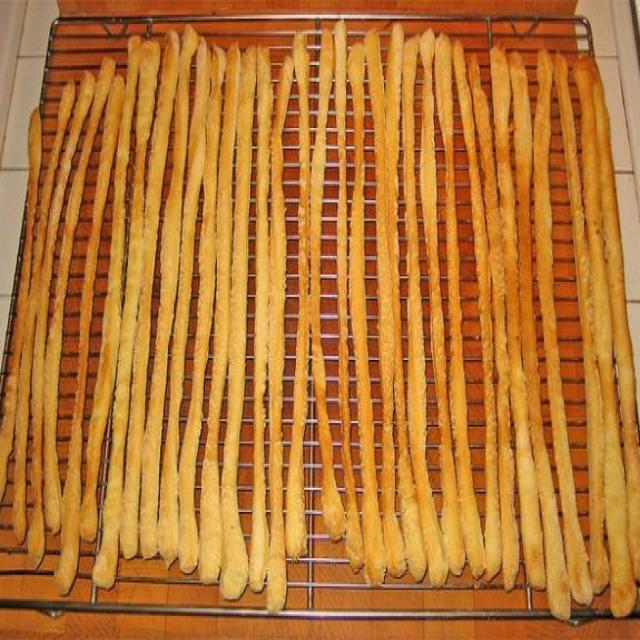Grissini: (12, 28, 638, 608)
